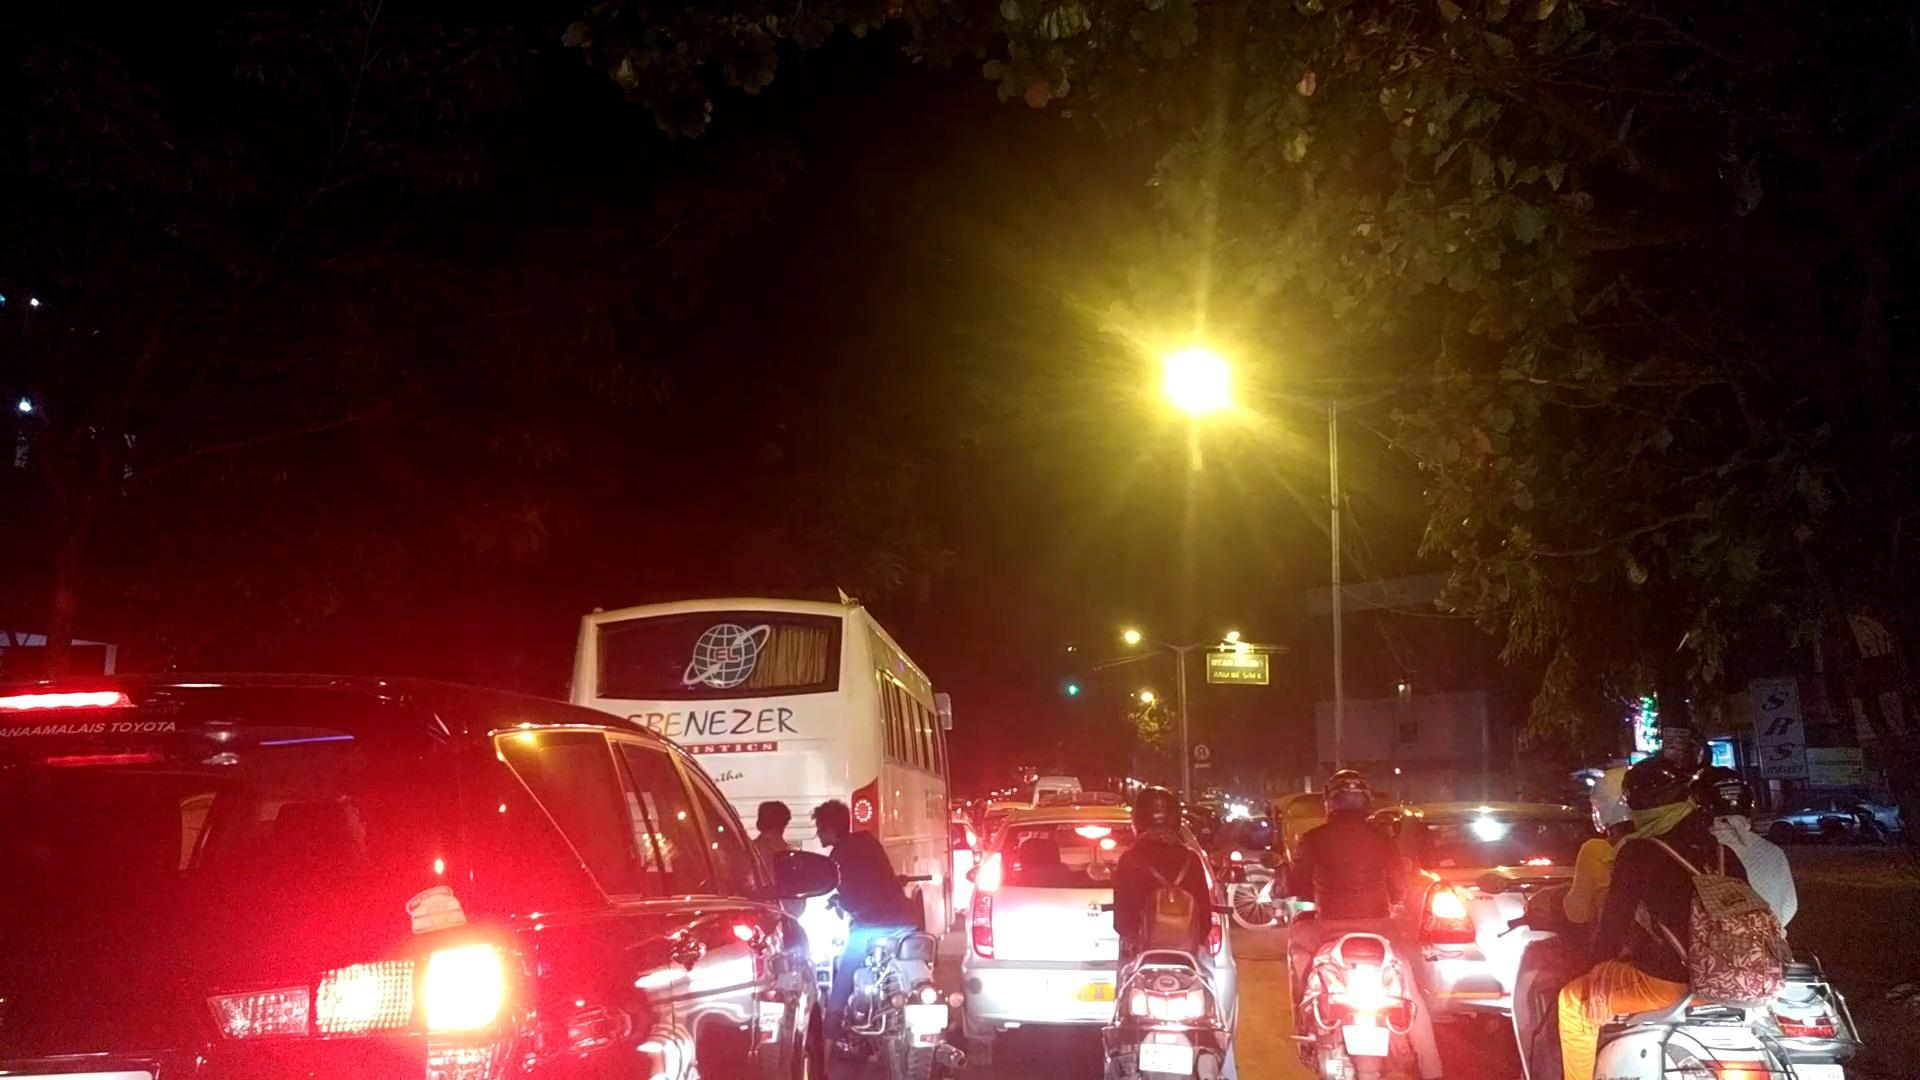on: (0, 3, 1920, 1080)
